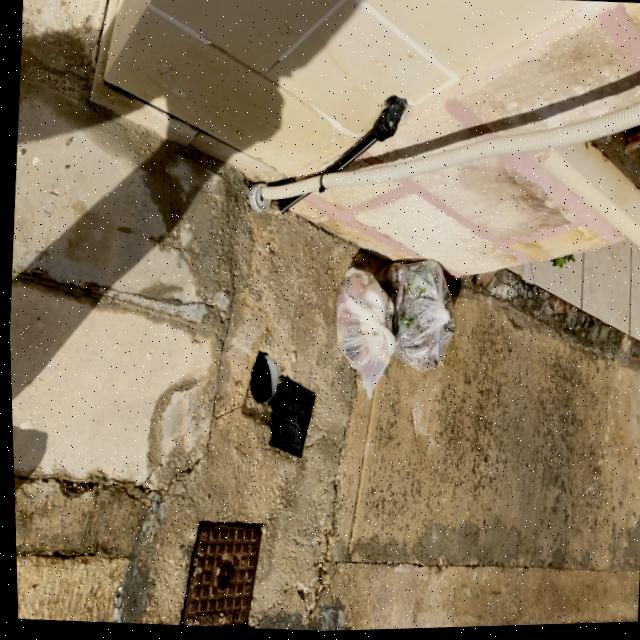Organic Waste -White Bag-: (320, 262, 401, 400)
Other: (389, 250, 460, 375)
